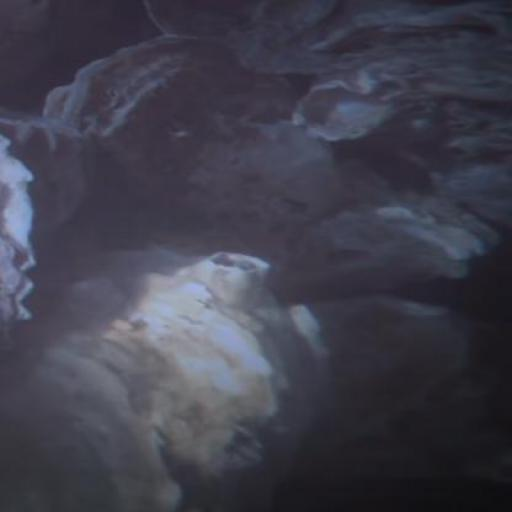Oyster-Closed: (1, 264, 328, 512), (46, 39, 252, 210)
Oyster-Open: (1, 143, 43, 326)
